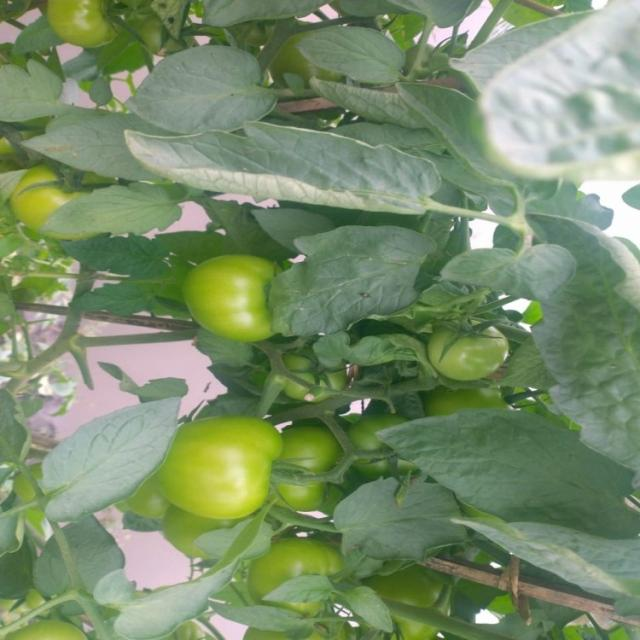tomato: (177, 246, 301, 361), (160, 410, 276, 530), (404, 307, 536, 385), (3, 155, 116, 240), (262, 534, 363, 620), (269, 422, 354, 512), (379, 571, 460, 640), (47, 1, 137, 62), (341, 415, 421, 478), (278, 355, 341, 402)
